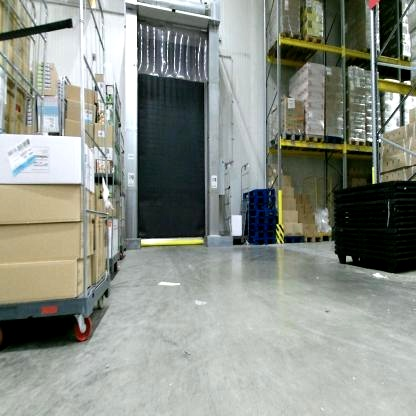pallets: (233, 187, 282, 249), (271, 126, 386, 152), (262, 35, 328, 59)
